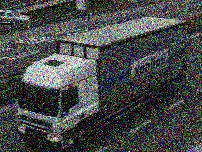truck: (15, 16, 187, 150)
